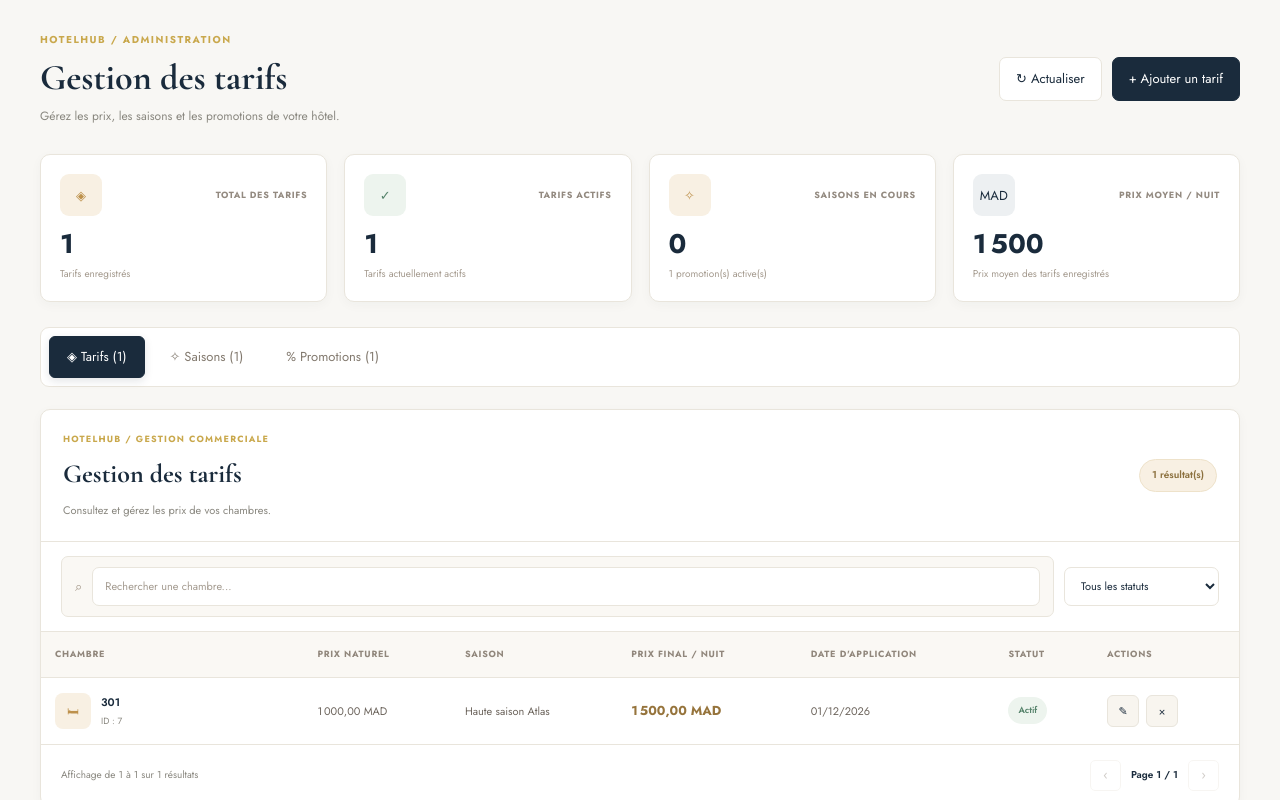
Test: AdminTarifsPage › refuse un tarif sans chambre
Expected: the table is shown, [41, 632, 1239, 744]
Click the button "+ Ajouter un tarif": (1176, 79) [1112, 57, 1240, 101]
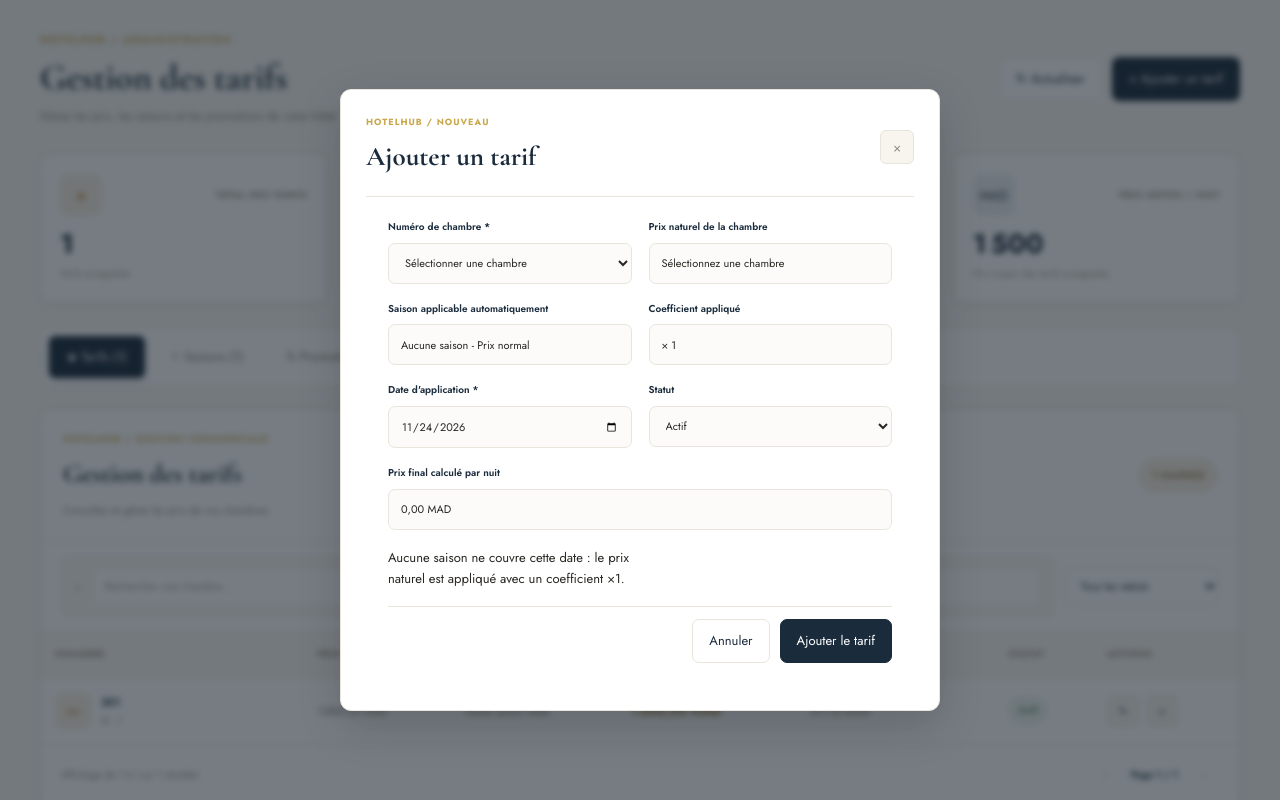
Submit the form, box [366, 198, 914, 685]
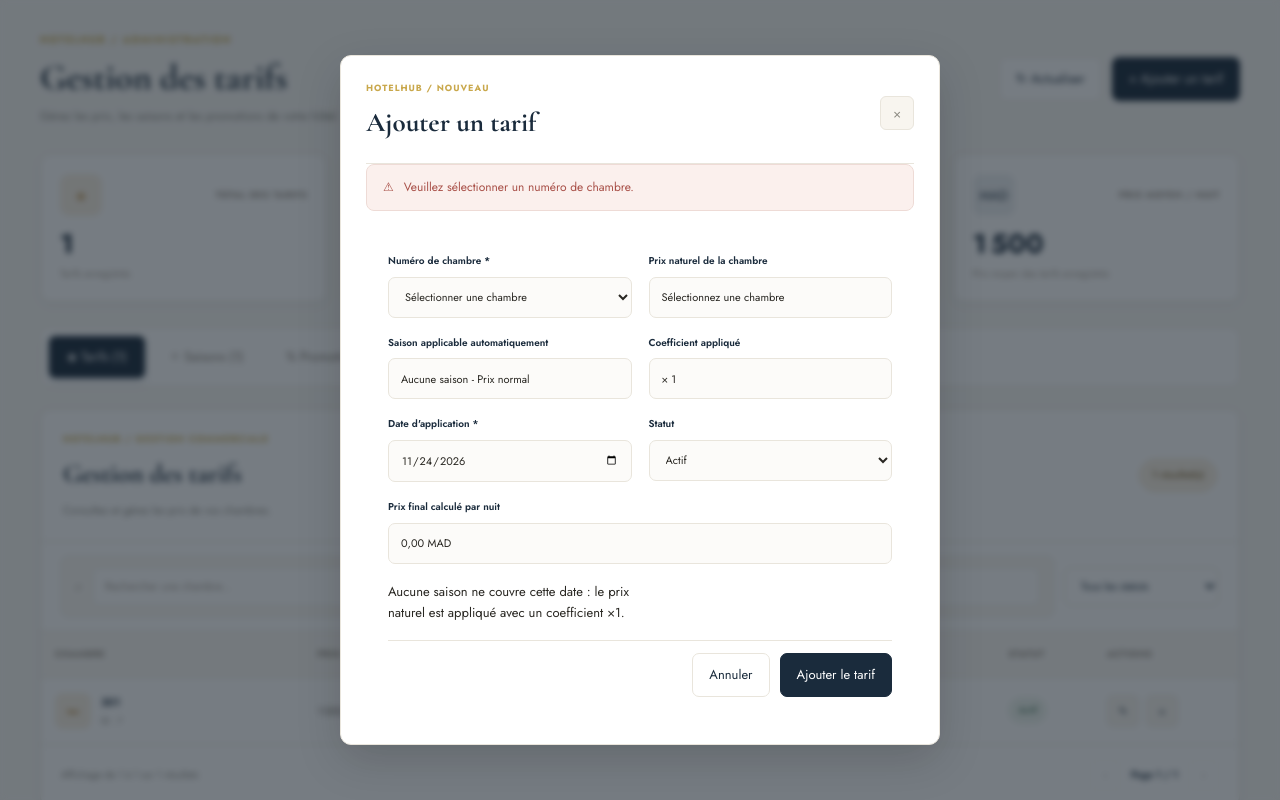
Expected: the text "Veuillez sélectionner un numéro de chambre." is shown, [404, 178, 634, 197]
